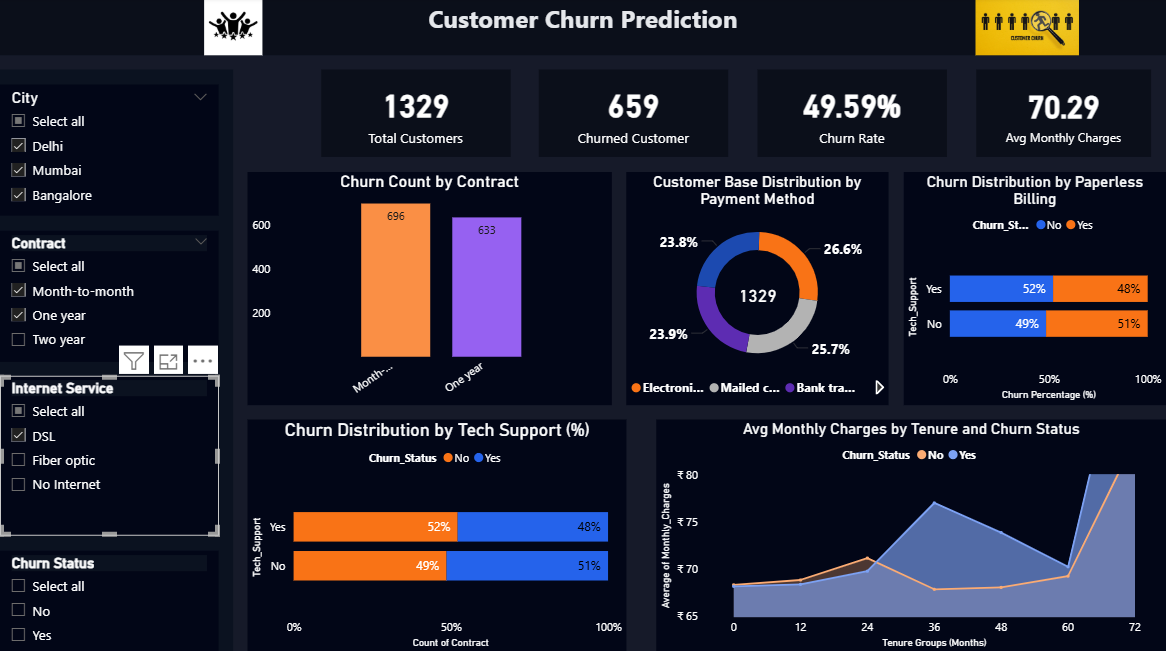

This screenshot's page, from the dashboard's own definition file:
{"tool":"powerbi","page":{"name":"Page 1","canvas":[1280,720],"ordinal":0},"visuals":[{"type":"textbox","box":[0,0,1280,64],"z":0},{"type":"card","fields":{"Values":["customer churn prediction.Total Customers"]},"box":[352,80,208,96],"z":1000},{"type":"card","fields":{"Values":["customer churn prediction.Churned Customer"]},"box":[592,80,208,96],"z":2000},{"type":"card","fields":{"Values":["customer churn prediction.Churn Rate"]},"box":[832,80,208,96],"z":3000},{"type":"donutChart","title":"Customer Base Distribution by Payment Method","fields":{"Y":["CountNonNull(customer churn prediction.Customer_ID)"],"Category":["customer churn prediction.Payment_Method"]},"box":[688,192,288,256],"z":4000},{"type":"card","fields":{"Values":["customer churn prediction.Avg Monthly Charges"]},"box":[1072,80,192,96],"z":5000},{"type":"areaChart","title":"Avg Monthly Charges by Tenure and Churn Status","fields":{"Series":["customer churn prediction.Churn_Status"],"Y":["Avg(customer churn prediction.Monthly_Charges)"],"Category":["customer churn prediction.Tenure (bins)"]},"box":[720,464,560,256],"z":6000},{"type":"clusteredColumnChart","title":"Churn Count by Contract","fields":{"Category":["customer churn prediction.Contract"],"Y":["CountNonNull(customer churn prediction.Churn_Status)"]},"box":[272,192,400,256],"z":7000},{"type":"shape","box":[0,80,256,640],"z":8000},{"type":"slicer","fields":{"Values":["customer churn prediction.Contract"]},"box":[0,256,240,144],"z":9000},{"type":"slicer","fields":{"Values":["customer churn prediction.Internet_Service"]},"box":[0,416,240,176],"z":10000},{"type":"slicer","fields":{"Values":["customer churn prediction.Churn_Status"]},"box":[0,608,240,112],"z":11000},{"type":"hundredPercentStackedBarChart","title":"Churn Distribution by Paperless Billing","fields":{"Y":["CountNonNull(customer churn prediction.Customer_ID)"],"Series":["customer churn prediction.Churn_Status"],"Category":["customer churn prediction.Tech_Support"]},"box":[992,192,288,256],"z":12000},{"type":"hundredPercentStackedBarChart","title":"Churn Distribution by Tech Support (%)","fields":{"Category":["customer churn prediction.Tech_Support"],"Y":["CountNonNull(customer churn prediction.Contract)"],"Series":["customer churn prediction.Churn_Status"]},"box":[272,464,416,256],"z":13000},{"type":"card","fields":{"Values":["customer churn prediction.Total Customers"]},"box":[800,288,64,80],"z":14000},{"type":"slicer","fields":{"Values":["customer churn prediction.City"]},"box":[0,96,240,144],"z":15000},{"type":"image","box":[1024,0,208,64],"z":16000},{"type":"image","box":[144,0,224,64],"z":17000}]}

Visuals, with their boxes on the page's 1280x720 design canvas (x1, y1, x2, y2). These are canvas units, not pixel positions in the 1166x651 screenshot, which may show the page scaled, cropped or inside an application window:
textbox: x1=0 y1=0 x2=1280 y2=64
card - customer churn prediction.Total Customers: x1=352 y1=80 x2=560 y2=176
card - customer churn prediction.Churned Customer: x1=592 y1=80 x2=800 y2=176
card - customer churn prediction.Churn Rate: x1=832 y1=80 x2=1040 y2=176
"Customer Base Distribution by Payment Method" donutChart: x1=688 y1=192 x2=976 y2=448
card - customer churn prediction.Avg Monthly Charges: x1=1072 y1=80 x2=1264 y2=176
"Avg Monthly Charges by Tenure and Churn Status" areaChart: x1=720 y1=464 x2=1280 y2=720
"Churn Count by Contract" clusteredColumnChart: x1=272 y1=192 x2=672 y2=448
shape: x1=0 y1=80 x2=256 y2=720
slicer - customer churn prediction.Contract: x1=0 y1=256 x2=240 y2=400
slicer - customer churn prediction.Internet_Service: x1=0 y1=416 x2=240 y2=592
slicer - customer churn prediction.Churn_Status: x1=0 y1=608 x2=240 y2=720
"Churn Distribution by Paperless Billing" hundredPercentStackedBarChart: x1=992 y1=192 x2=1280 y2=448
"Churn Distribution by Tech Support (%)" hundredPercentStackedBarChart: x1=272 y1=464 x2=688 y2=720
card - customer churn prediction.Total Customers: x1=800 y1=288 x2=864 y2=368
slicer - customer churn prediction.City: x1=0 y1=96 x2=240 y2=240
image: x1=1024 y1=0 x2=1232 y2=64
image: x1=144 y1=0 x2=368 y2=64
